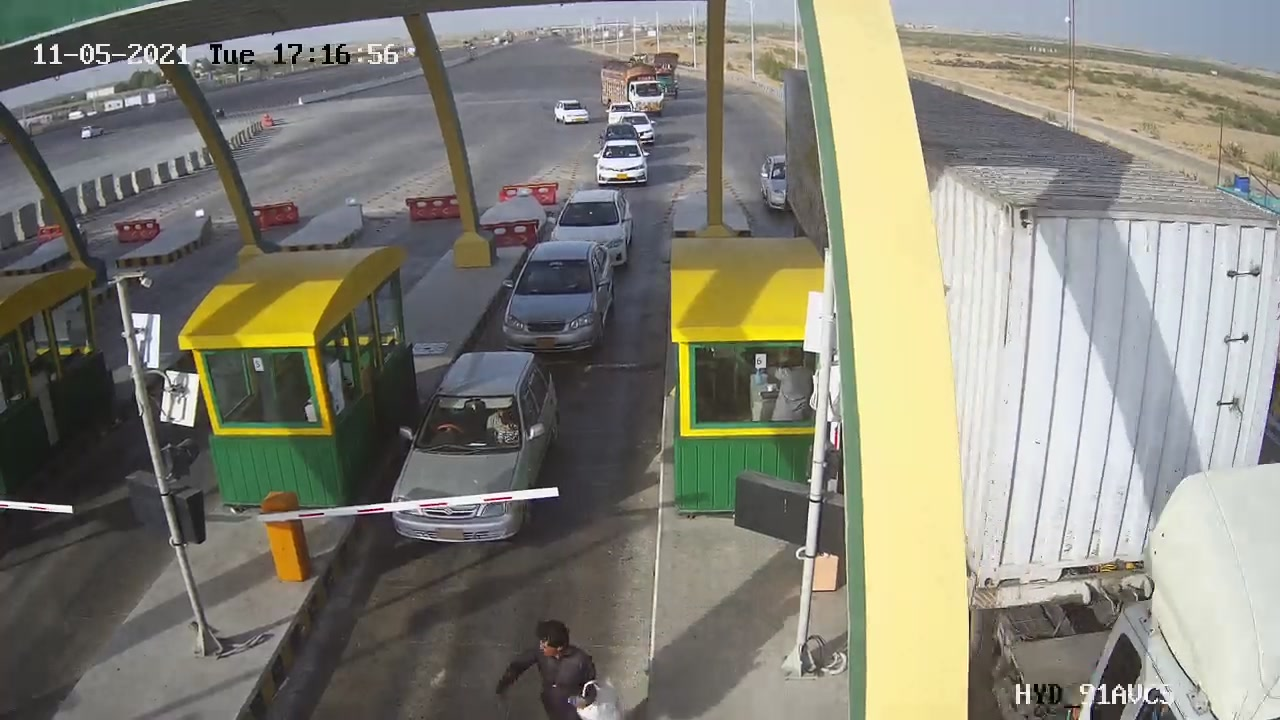F1: (372, 340, 587, 565), (481, 233, 631, 361)
